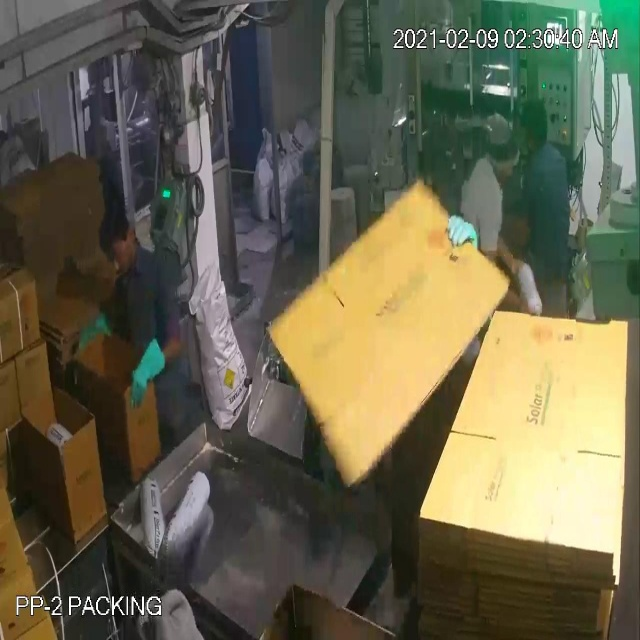Guantes: (128, 328, 176, 416), (72, 315, 115, 364)
Sin_guantes: (486, 222, 537, 288)
